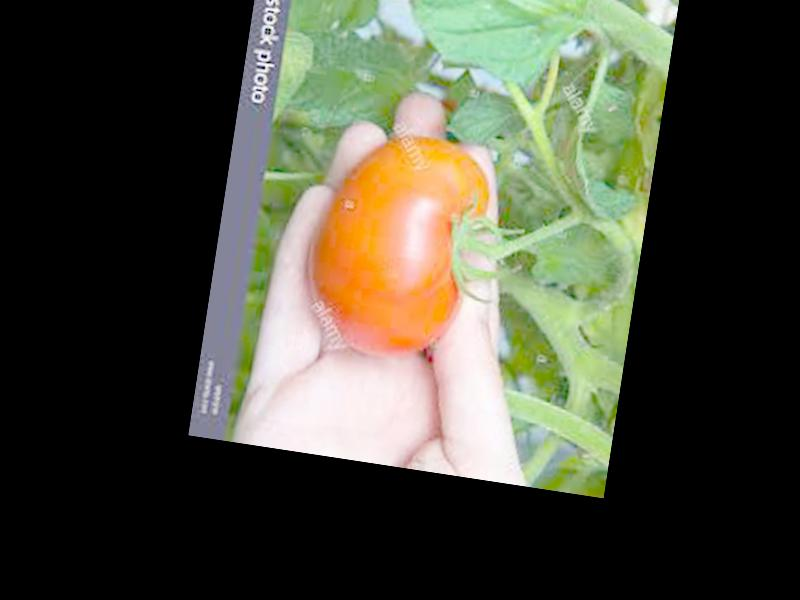Tomato: (301, 123, 496, 370)
